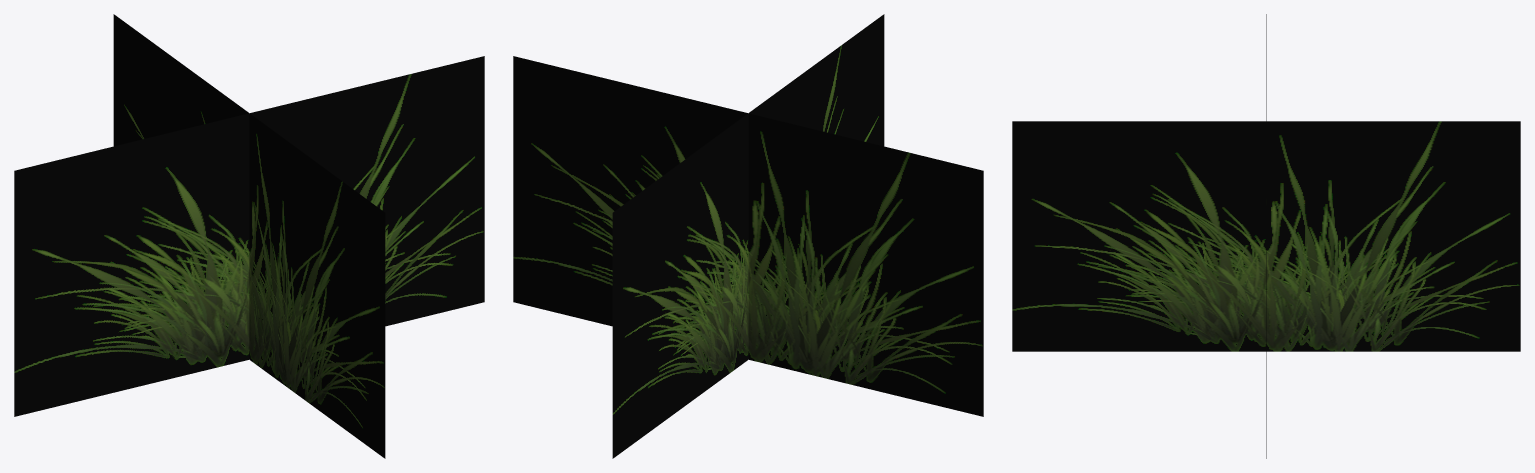
The model's file is herbe01.obj.
3 views of the same model, side by side, from view 1: azimuth 30°, elevation 25°; view 2: azimuth 150°, elevation 25°; view 3: azimuth 270°, elevation 25° (orthographic). The views are drawn at different scales.
Parts seen in each view (by area): view 1: Touffe_d_herbe; view 2: Touffe_d_herbe; view 3: Touffe_d_herbe.
Boxes of the visible parts, bbox=[...] form: Touffe_d_herbe: bbox=[14, 14, 484, 458]; Touffe_d_herbe: bbox=[513, 14, 983, 458]; Touffe_d_herbe: bbox=[1012, 14, 1520, 458].
Size of the model in its own units: 2 by 1 by 2.
Materials: 1 (1 with a texture image).
